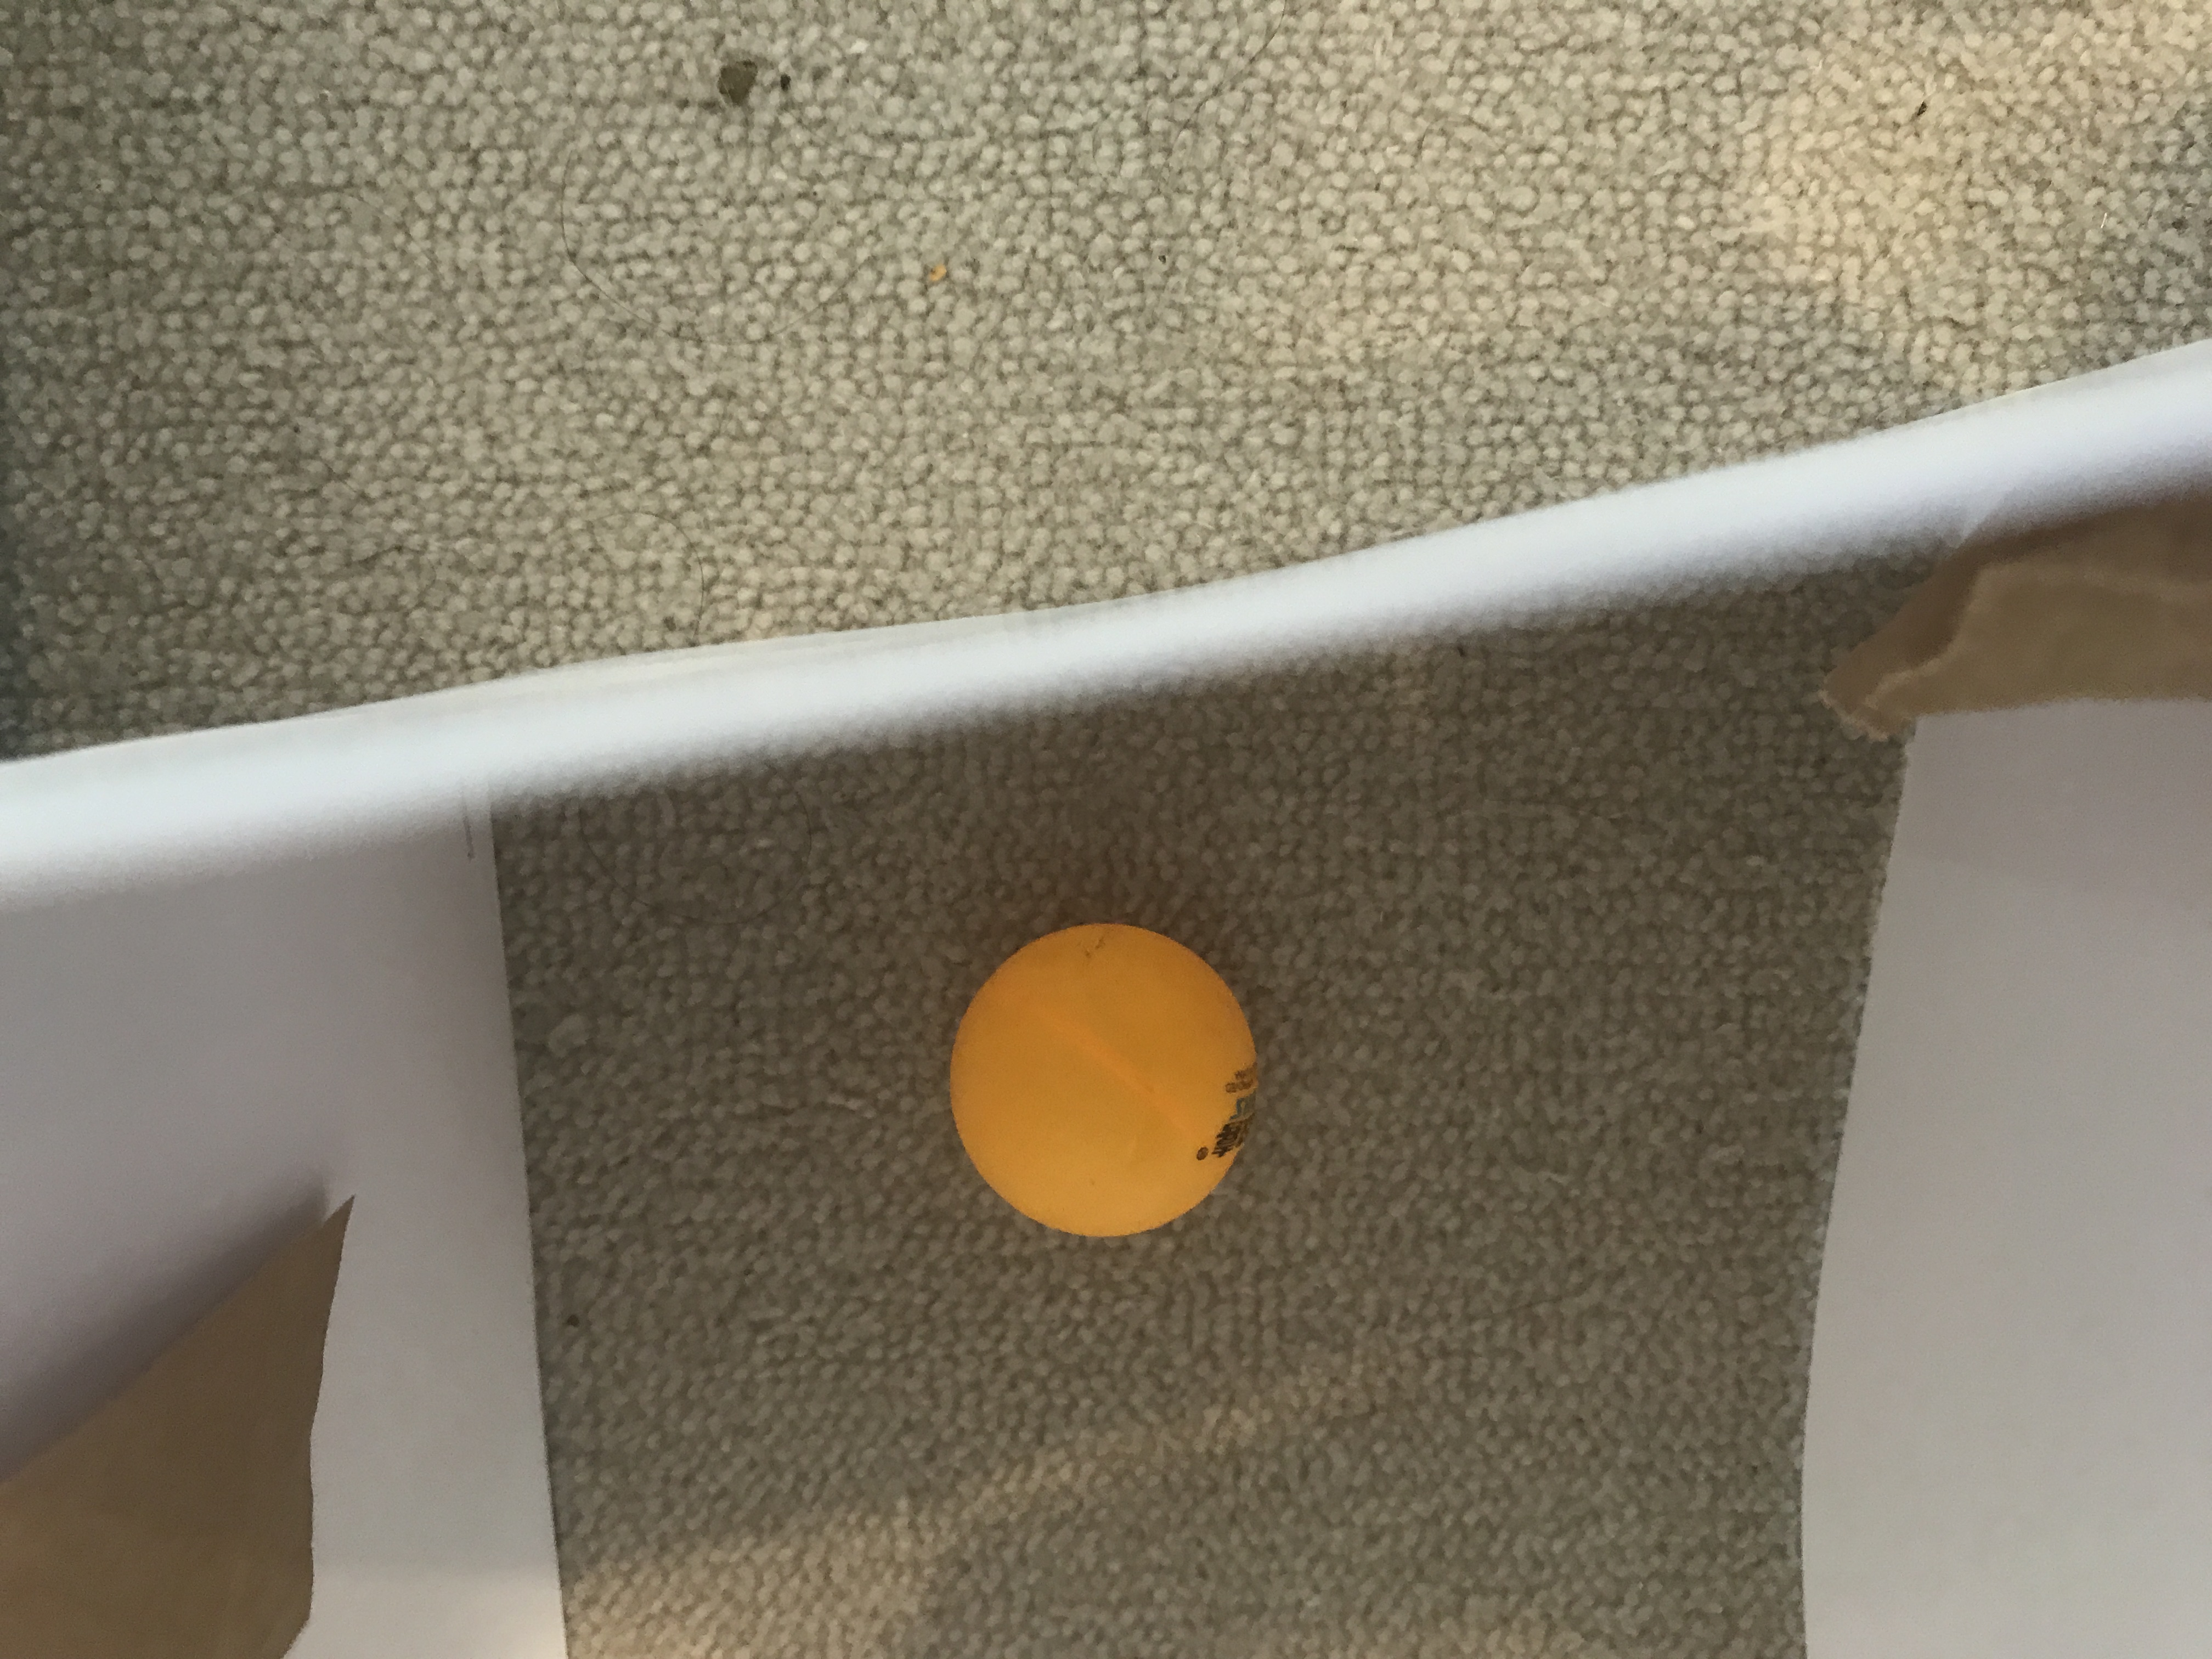pp: (935, 918, 1268, 1239)
